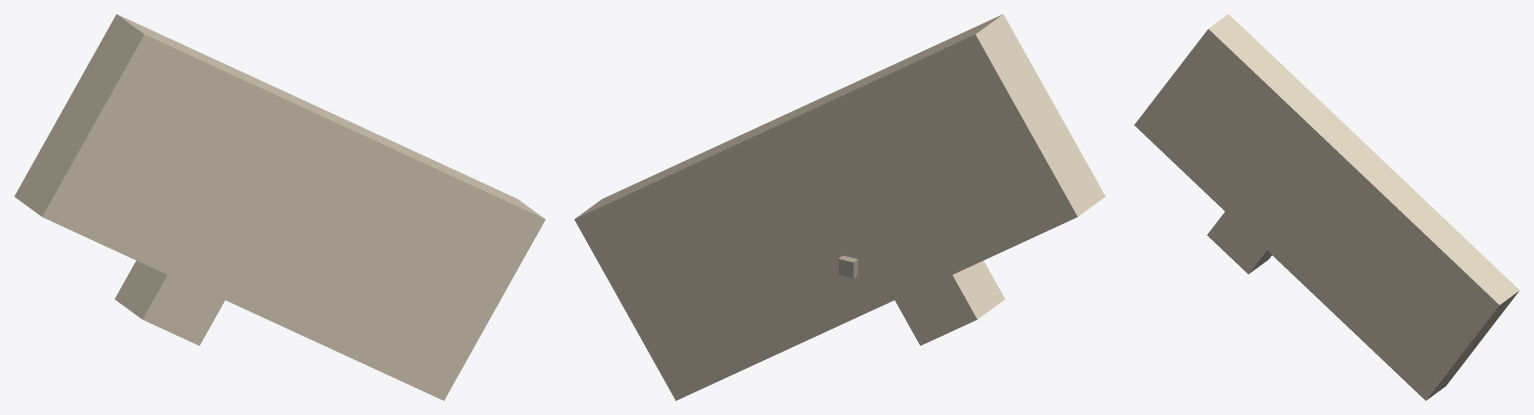
Rendered from historic-palestine-01_23_3429_3173.glb.
3 renders of one model, left to right at view 1: azimuth 30°, elevation 25°; view 2: azimuth 150°, elevation 25°; view 3: azimuth 330°, elevation 25°, orthographic. The views are drawn at different scales.
Visible parts, largest first — view 1: Building_; view 2: Building_; view 3: Building_.
Boxes of the visible parts, x1,y1,x2,y2 form: Building_: (14,14,545,400); Building_: (574,14,1105,400); Building_: (1134,14,1519,400).
Size of the model in its own units: 78.14 by 65.19 by 8.7.
